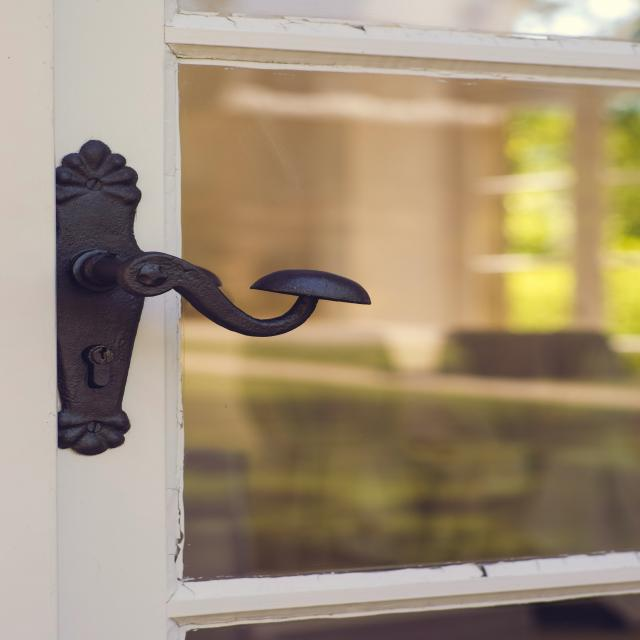door-handle: (72, 251, 372, 338)
